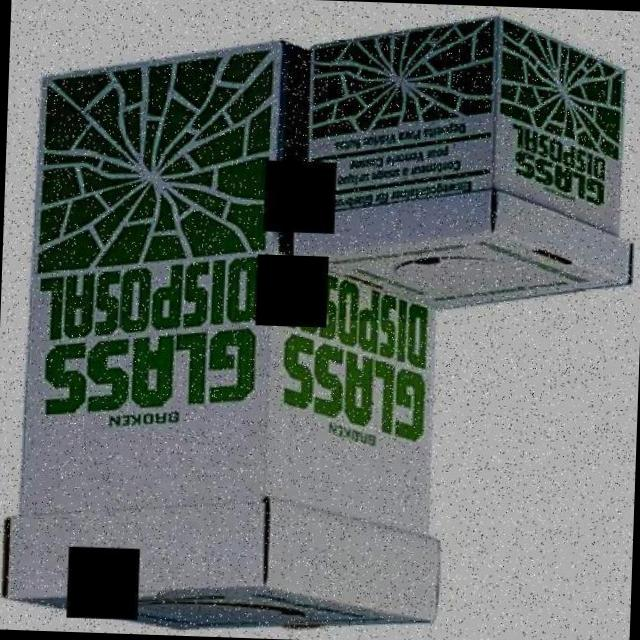box: (0, 10, 469, 637), (285, 8, 640, 330)
